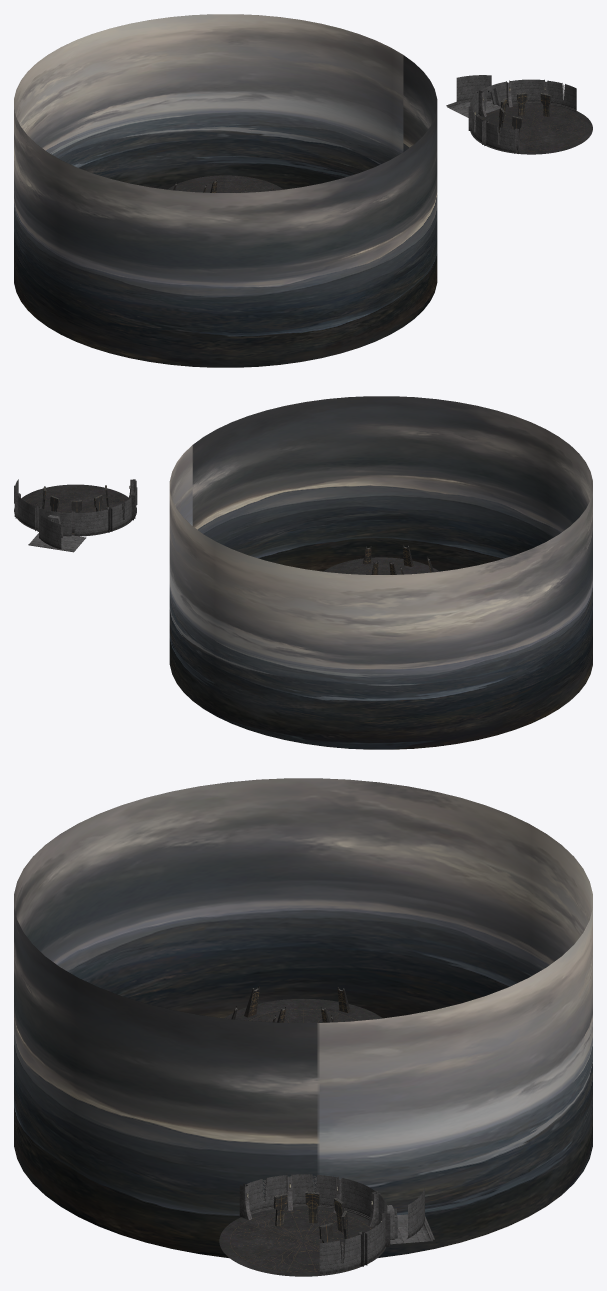
Rendered from env_per_fortress_01_pre.glb.
3 views of the same model, one above another, from view 1: azimuth 30°, elevation 25°; view 2: azimuth 150°, elevation 25°; view 3: azimuth 270°, elevation 25° (orthographic). The views are drawn at different scales.
Parts seen in each view (by area): view 1: brac_skycyllinder_mesh, per_fortress_floor_01a (×2), per_fortress_wall_01c (×2), per_fortress_floor_01b, per_fortress_wall_01d (3), per_fortress_wall_01d (1); view 2: brac_skycyllinder_mesh, per_fortress_floor_01a (×2), per_fortress_wall_01c (2), per_fortress_floor_01b, per_fortress_wall_01c, per_fortress_wall_01a (1), per_fortress_wall_doorway_01b (1), per_fortress_wall_01d (2); view 3: brac_skycyllinder_mesh, per_fortress_floor_01a (×2), per_fortress_floor_01b, per_fortress_wall_01d (1), per_fortress_wall_01d (2), per_fortress_wall_01d (3), per_fortress_wall_01c (2), per_fortress_wall_01a (1).
Part boxes in pixels (x1,y1,x2,y2): brac_skycyllinder_mesh: (14,14,437,367); per_fortress_floor_01a (×2): (186,103,592,192); per_fortress_wall_01c (×2): (456,75,544,104); per_fortress_floor_01b: (168,175,283,191); per_fortress_wall_01d (3): (486,122,515,152); per_fortress_wall_01d (1): (547,80,576,111); brac_skycyllinder_mesh: (169,396,592,749); per_fortress_floor_01a (×2): (14,484,420,574); per_fortress_wall_01c (2): (74,509,108,535); per_fortress_floor_01b: (323,557,438,573); per_fortress_wall_01c: (39,513,61,549); per_fortress_wall_01a (1): (28,533,86,552); per_fortress_wall_doorway_01b (1): (39,508,71,537); per_fortress_wall_01d (2): (109,497,131,530); brac_skycyllinder_mesh: (14,778,592,1258); per_fortress_floor_01a (×2): (219,1009,386,1276); per_fortress_floor_01b: (224,999,382,1020); per_fortress_wall_01d (1): (319,1234,361,1274); per_fortress_wall_01d (2): (291,1174,337,1209); per_fortress_wall_01d (3): (245,1175,287,1214); per_fortress_wall_01c (2): (342,1178,376,1219); per_fortress_wall_01a (1): (375,1214,434,1244).
Bounding box in the file's own units: 177 × 54.61 × 120.
Materials: 9 (9 with a texture image).
